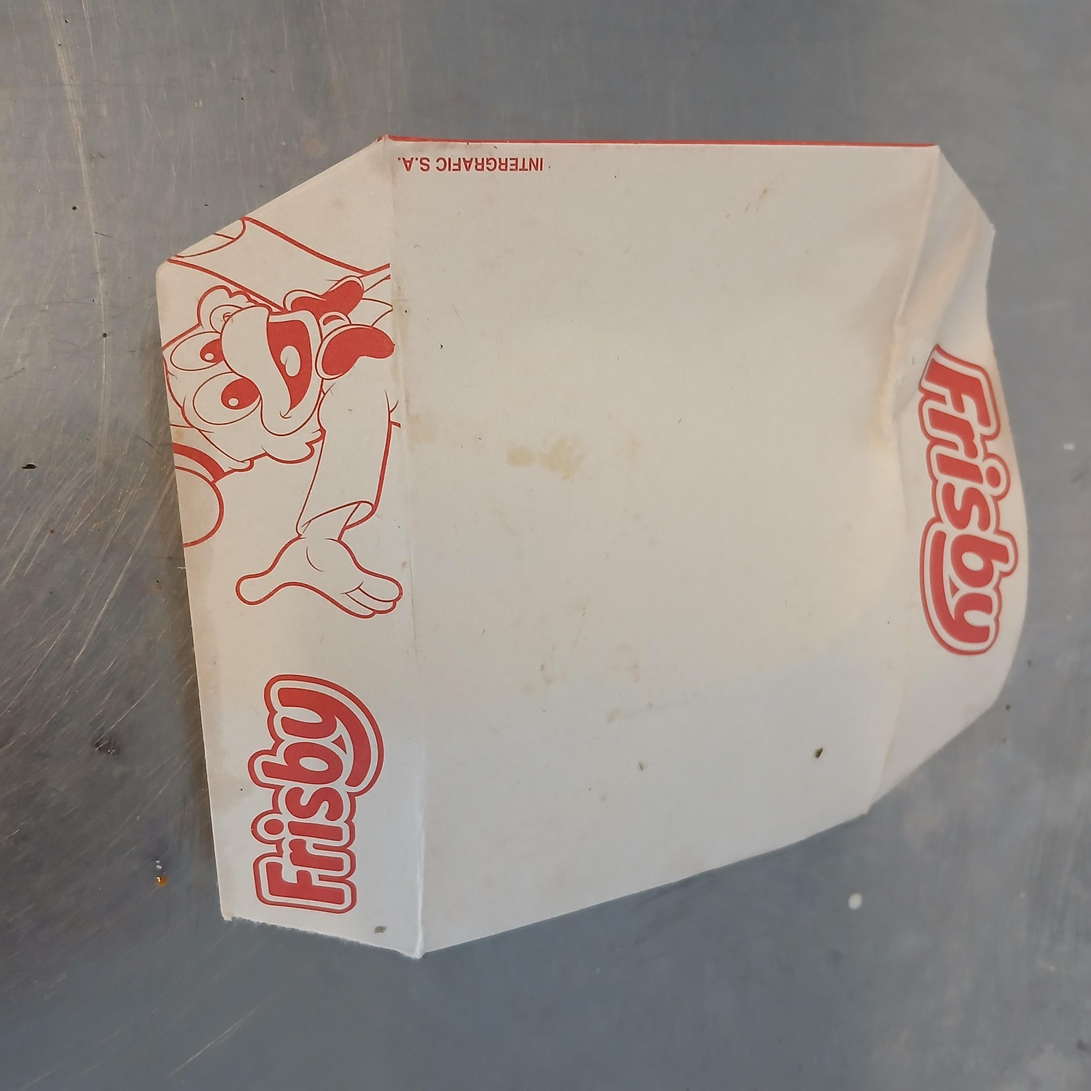Carton: (154, 138, 1032, 960)
